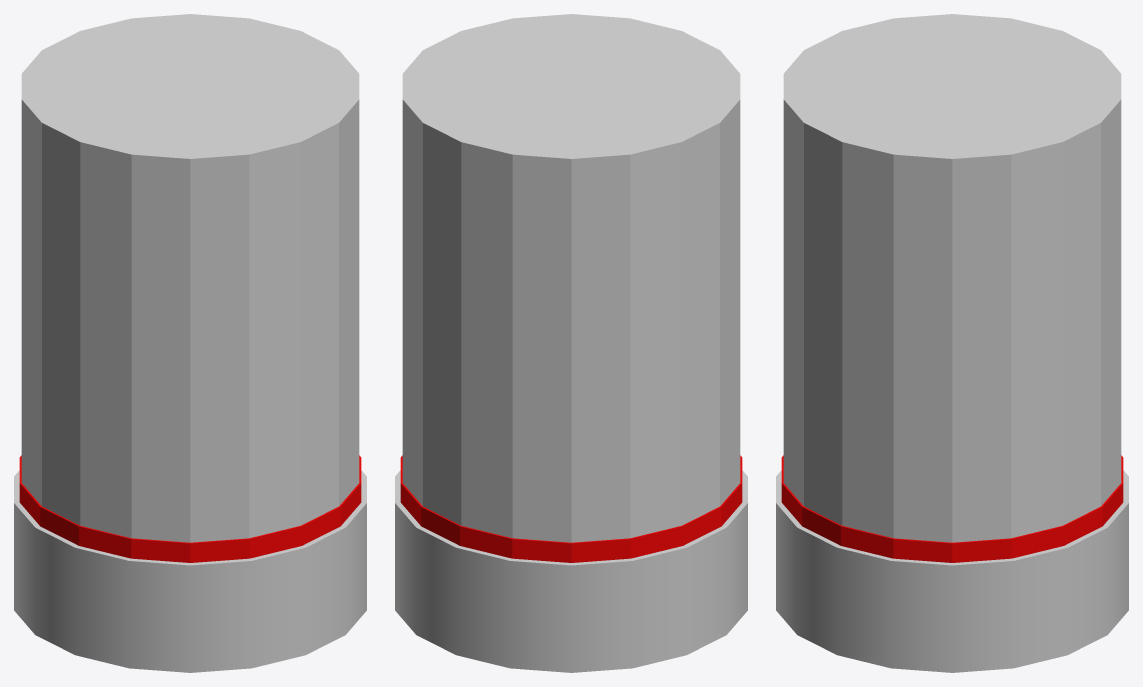
The model's file is KuvarskaKapa.fbx.
3 views of the same model, side by side, from view 1: azimuth 30°, elevation 25°; view 2: azimuth 150°, elevation 25°; view 3: azimuth 270°, elevation 25° (orthographic).
Visible parts, largest first — view 1: KuvarKapa, KuvarskKapa_Crveno; view 2: KuvarKapa, KuvarskKapa_Crveno; view 3: KuvarKapa, KuvarskKapa_Crveno.
Boxes of the visible parts, left/top/right/bottom form: KuvarKapa: left=14, top=14, right=366, bottom=672; KuvarskKapa_Crveno: left=19, top=455, right=361, bottom=562; KuvarKapa: left=395, top=14, right=747, bottom=672; KuvarskKapa_Crveno: left=400, top=455, right=742, bottom=562; KuvarKapa: left=776, top=14, right=1128, bottom=672; KuvarskKapa_Crveno: left=781, top=455, right=1123, bottom=562.
Bounding box in the file's own units: 2.1 × 3.31 × 2.07.
